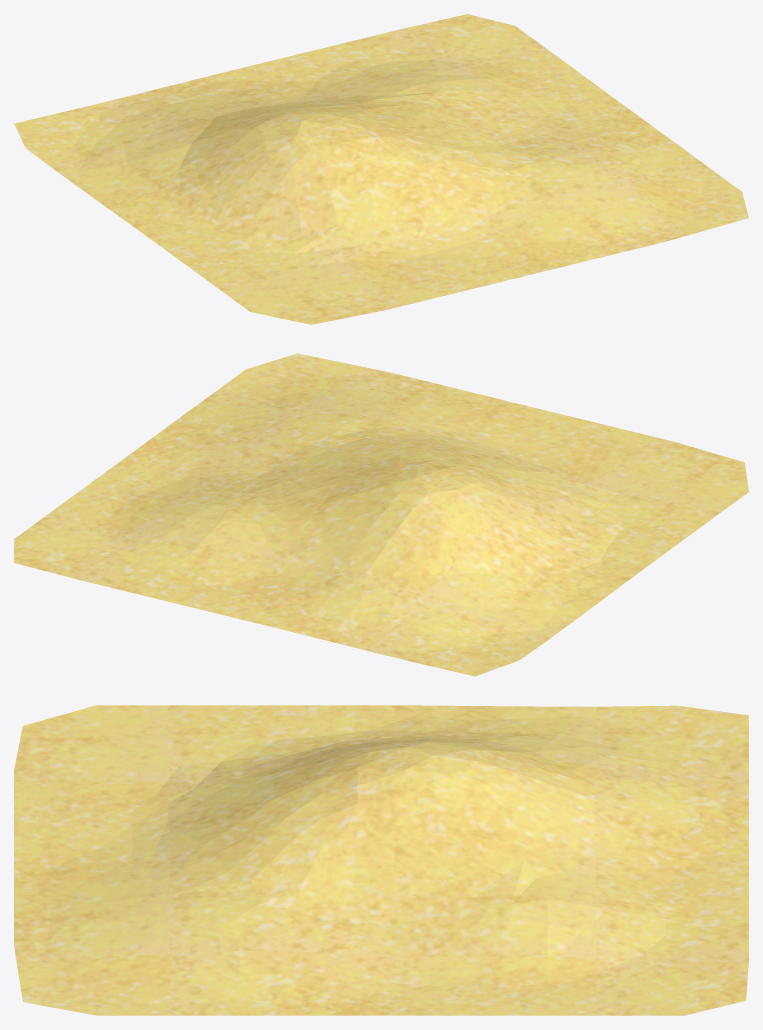
The model's file is sandhill1.fbx.
3 views of the same model, one above another, from view 1: azimuth 30°, elevation 25°; view 2: azimuth 150°, elevation 25°; view 3: azimuth 270°, elevation 25° (orthographic). The views are drawn at different scales.
Visible parts, largest first — view 1: Grid#2, Grid#3; view 2: Grid#2, Grid#3; view 3: Grid#2, Grid#3.
Boxes of the visible parts, x1,y1,x2,y2 form: Grid#2: [14, 14, 748, 324]; Grid#3: [17, 14, 745, 313]; Grid#2: [14, 353, 748, 676]; Grid#3: [14, 357, 747, 674]; Grid#2: [14, 705, 748, 1015]; Grid#3: [14, 705, 747, 1015].
Bounding box in the file's own units: 10 × 1.01 × 10.
1 material, 1 textured.
